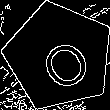O_NW: (27, 24, 92, 89)
